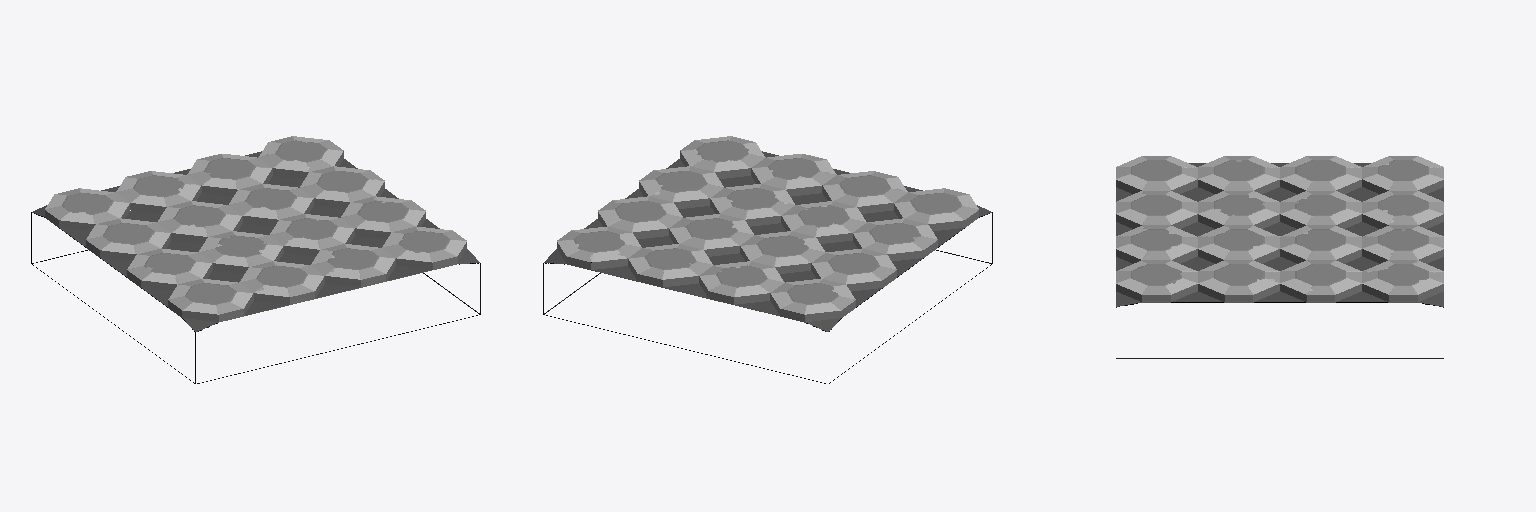
3 renders of one model, left to right at view 1: azimuth 30°, elevation 25°; view 2: azimuth 150°, elevation 25°; view 3: azimuth 270°, elevation 25°, orthographic.
Parts seen in each view (by area): view 1: Cube; view 2: Cube; view 3: Cube.
Part boxes in pixels (left/top/right/bottom): Cube: left=31, top=136, right=480, bottom=383; Cube: left=543, top=136, right=992, bottom=383; Cube: left=1116, top=156, right=1443, bottom=358.
Bounding box in the file's own units: 10.55 × 2.37 × 10.55.
1 materials, 1 textured.